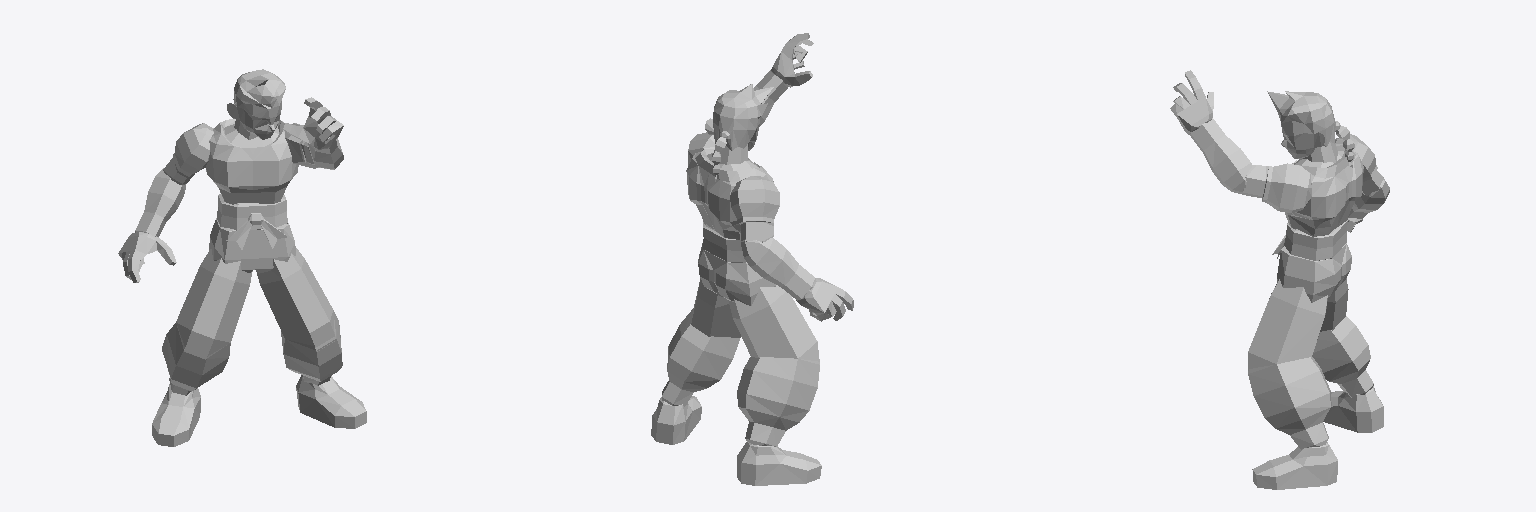
File: Wang-Tang (Power Stone).obj
3 renders of one model, left to right at view 1: azimuth 30°, elevation 25°; view 2: azimuth 150°, elevation 25°; view 3: azimuth 270°, elevation 25°, orthographic.
Parts seen in each view (by area): view 1: model557_material.032, model557_material.009, model557_material.039, model557_material557_, model557_material.008, model557_material.023, model557_material.004, model557_material.007, model557_material.038, model557_material.047, model557_material.005, model557_material.002 (+10 smaller); view 2: model557_material.040, model557_material.007, model557_material.011, model557_material.005, model557_material.019, model557_material.047, model557_material.031, model557_material.004, model557_material.012, model557_material.037, model557_material.018, model557_material.021 (+9 smaller); view 3: model557_material.040, model557_material.031, model557_material.007, model557_material.011, model557_material.047, model557_material.021, model557_material.005, model557_material.004, model557_material.038, model557_material.019, model557_material.037, model557_material557_ (+6 smaller).
Boxes of the visible parts, x1=… form: model557_material.032: x1=184, y1=254, x2=334, y2=359; model557_material.009: x1=213, y1=141, x2=292, y2=204; model557_material.039: x1=207, y1=259, x2=314, y2=356; model557_material557_: x1=152, y1=376, x2=365, y2=435; model557_material.008: x1=214, y1=224, x2=295, y2=273; model557_material.023: x1=171, y1=336, x2=342, y2=395; model557_material.004: x1=186, y1=332, x2=320, y2=395; model557_material.007: x1=152, y1=375, x2=354, y2=446; model557_material.038: x1=118, y1=97, x2=343, y2=282; model557_material.047: x1=135, y1=138, x2=342, y2=236; model557_material.005: x1=163, y1=123, x2=317, y2=184; model557_material.002: x1=227, y1=80, x2=285, y2=139; model557_material.040: x1=662, y1=308, x2=819, y2=446; model557_material.007: x1=651, y1=400, x2=821, y2=485; model557_material.011: x1=686, y1=149, x2=740, y2=239; model557_material.005: x1=688, y1=132, x2=779, y2=242; model557_material.019: x1=662, y1=324, x2=759, y2=443; model557_material.047: x1=749, y1=70, x2=815, y2=298; model557_material.031: x1=691, y1=278, x2=797, y2=358; model557_material.004: x1=673, y1=336, x2=739, y2=406; model557_material.012: x1=760, y1=285, x2=819, y2=361; model557_material.037: x1=698, y1=243, x2=750, y2=305; model557_material.018: x1=732, y1=84, x2=773, y2=150; model557_material.021: x1=713, y1=84, x2=750, y2=164; model557_material.040: x1=1248, y1=357, x2=1330, y2=449; model557_material.031: x1=1248, y1=279, x2=1327, y2=370; model557_material.007: x1=1257, y1=388, x2=1382, y2=489; model557_material.011: x1=1311, y1=150, x2=1363, y2=236; model557_material.047: x1=1191, y1=118, x2=1384, y2=218; model557_material.021: x1=1286, y1=92, x2=1340, y2=162; model557_material.005: x1=1243, y1=134, x2=1379, y2=209; model557_material.004: x1=1312, y1=330, x2=1365, y2=397; model557_material.038: x1=1170, y1=70, x2=1361, y2=232; model557_material.019: x1=1311, y1=316, x2=1373, y2=438; model557_material.037: x1=1312, y1=243, x2=1351, y2=302; model557_material557_: x1=1253, y1=386, x2=1373, y2=476.
Size of the model in its own units: 0.1008 by 0.1719 by 0.0913.